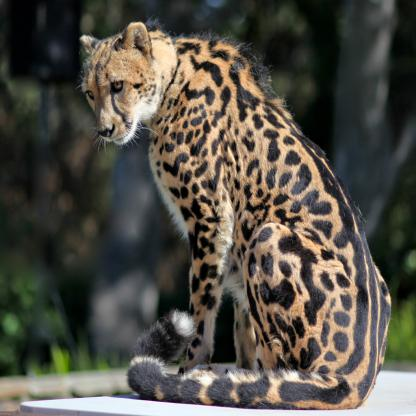leopard: (74, 23, 162, 154)
